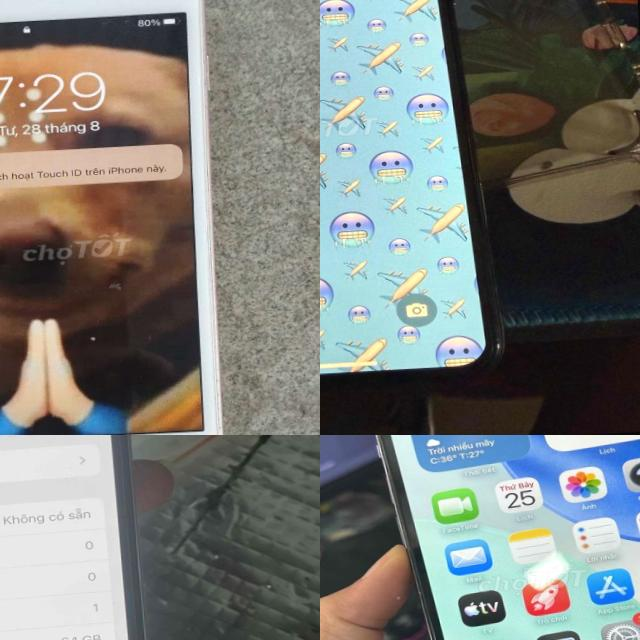gen_12_13: (345, 435, 640, 640)
gen_6: (0, 0, 222, 435)
gen_x_xs: (320, 0, 513, 404), (0, 435, 155, 640)
